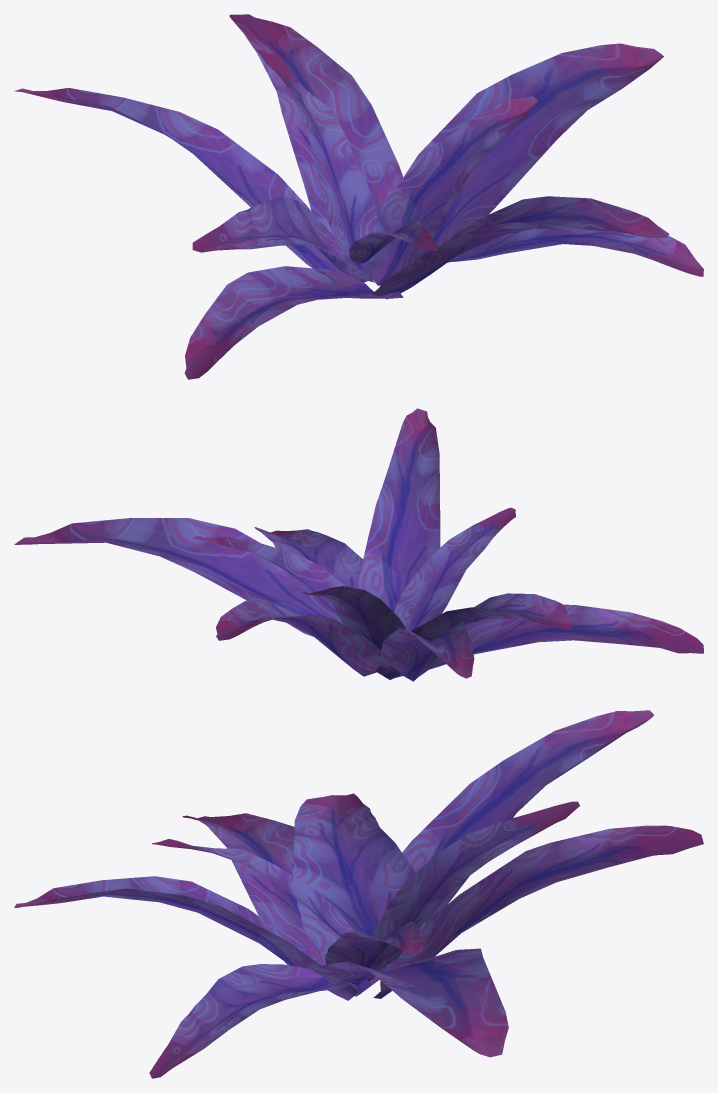
Rendered from touffe_rose3.fbx.
3 views of the same model, one above another, from view 1: azimuth 30°, elevation 25°; view 2: azimuth 150°, elevation 25°; view 3: azimuth 270°, elevation 25° (orthographic). The views are drawn at different scales.
Parts seen in each view (by area): view 1: Plane.085, Plane.089, Plane.088, Plane.086, Plane.092, Plane.087, Plane.091, Plane.090, Plane.093, Plane.094; view 2: Plane.085, Plane.087, Plane.086, Plane.094, Plane.089, Plane.090, Plane.092, Plane.093, Plane.091, Plane.088; view 3: Plane.090, Plane.089, Plane.092, Plane.085, Plane.093, Plane.087, Plane.091, Plane.086, Plane.094, Plane.088.
Part boxes in pixels (x1,y1,x2,y2): Plane.085: (403,43,663,259); Plane.089: (229,14,403,254); Plane.088: (364,96,537,285); Plane.086: (184,266,403,379); Plane.092: (14,88,347,281); Plane.087: (372,196,669,299); Plane.091: (256,49,376,282); Plane.090: (192,195,374,282); Plane.093: (448,229,703,276); Plane.094: (349,219,438,263); Plane.085: (14,518,337,636); Plane.087: (357,408,440,612); Plane.086: (394,604,703,678); Plane.094: (394,507,515,630); Plane.089: (216,597,392,676); Plane.090: (376,593,573,679); Plane.092: (381,620,474,681); Plane.093: (254,527,362,588); Plane.091: (301,586,406,650); Plane.088: (193,536,345,623); Plane.090: (291,793,425,954); Plane.089: (373,825,703,998); Plane.092: (402,710,653,929); Plane.085: (315,948,508,1057); Plane.093: (149,964,347,1078); Plane.087: (14,876,358,1000); Plane.091: (367,801,579,981); Plane.086: (182,813,379,996); Plane.094: (152,839,354,936); Plane.088: (325,921,424,985).
Size of the model in its own units: 311 by 85.74 by 286.
Materials: 1 (1 with a texture image).
